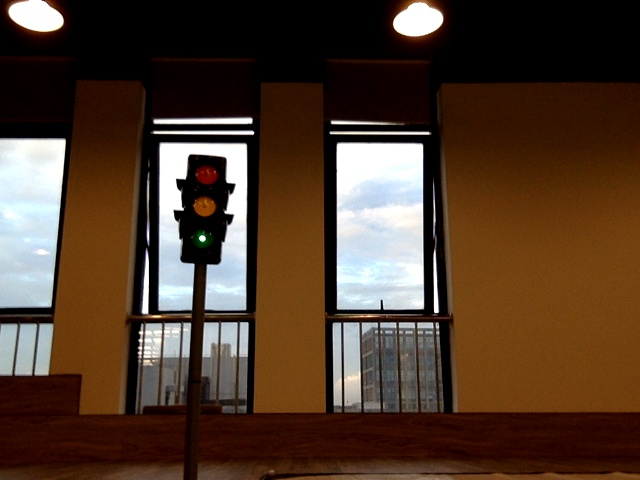green: (190, 157, 219, 254)
